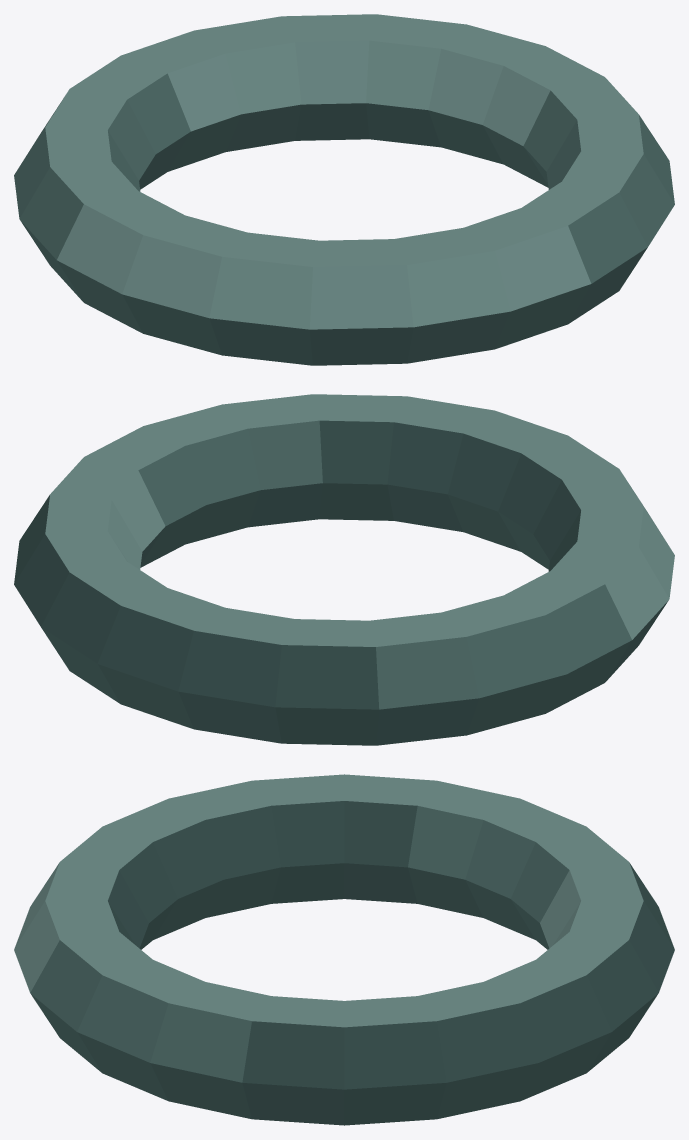
The model's file is Checkpoint_RingIdle.gltf.
3 views of the same model, one above another, from view 1: azimuth 30°, elevation 25°; view 2: azimuth 150°, elevation 25°; view 3: azimuth 270°, elevation 25° (orthographic).
Visible parts, largest first — view 1: Checkpoint_RingIdle_baked; view 2: Checkpoint_RingIdle_baked; view 3: Checkpoint_RingIdle_baked.
Part boxes in pixels (x1,y1,x2,y2): Checkpoint_RingIdle_baked: [14, 14, 674, 365]; Checkpoint_RingIdle_baked: [14, 394, 674, 745]; Checkpoint_RingIdle_baked: [14, 774, 674, 1125].
Size of the model in its own units: 0.37 by 0.0606 by 0.37.
